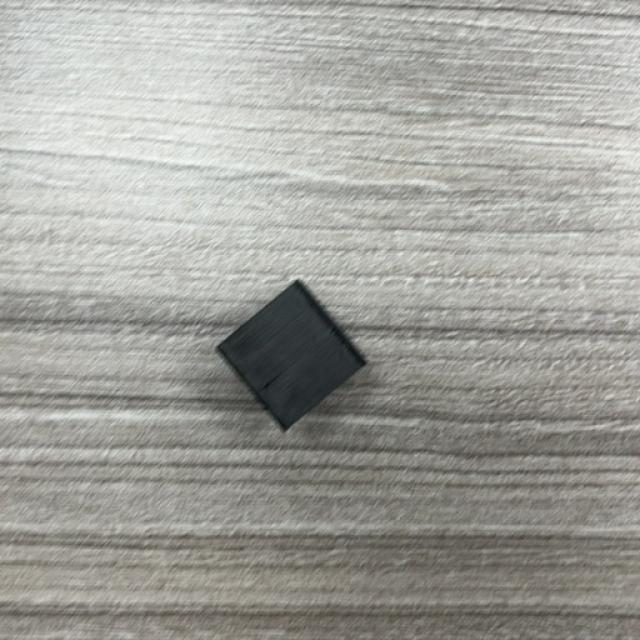Negro: (216, 280, 368, 434)
